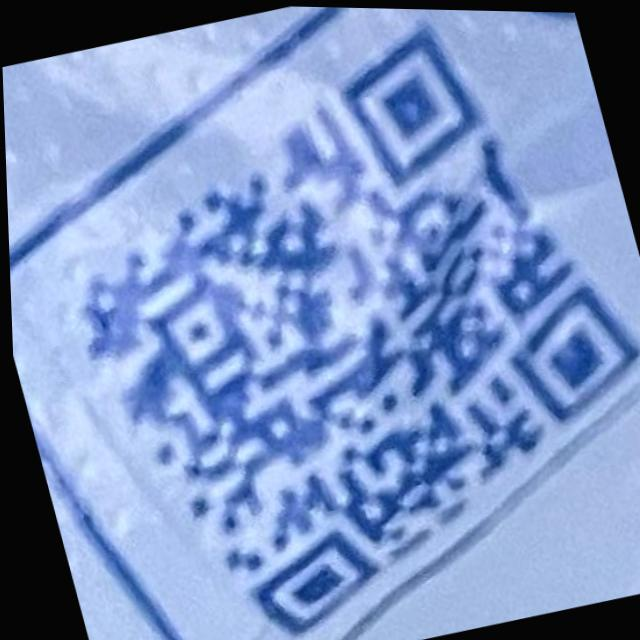QR_CODE: (17, 0, 640, 640)
